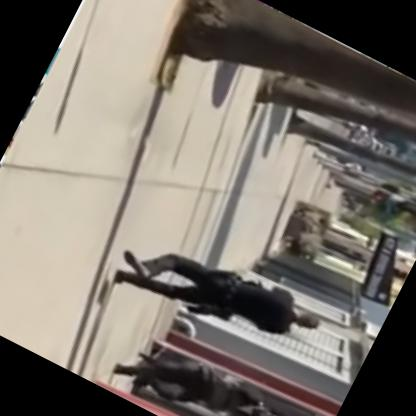Human Body: (112, 212, 330, 379), (103, 319, 291, 415)
